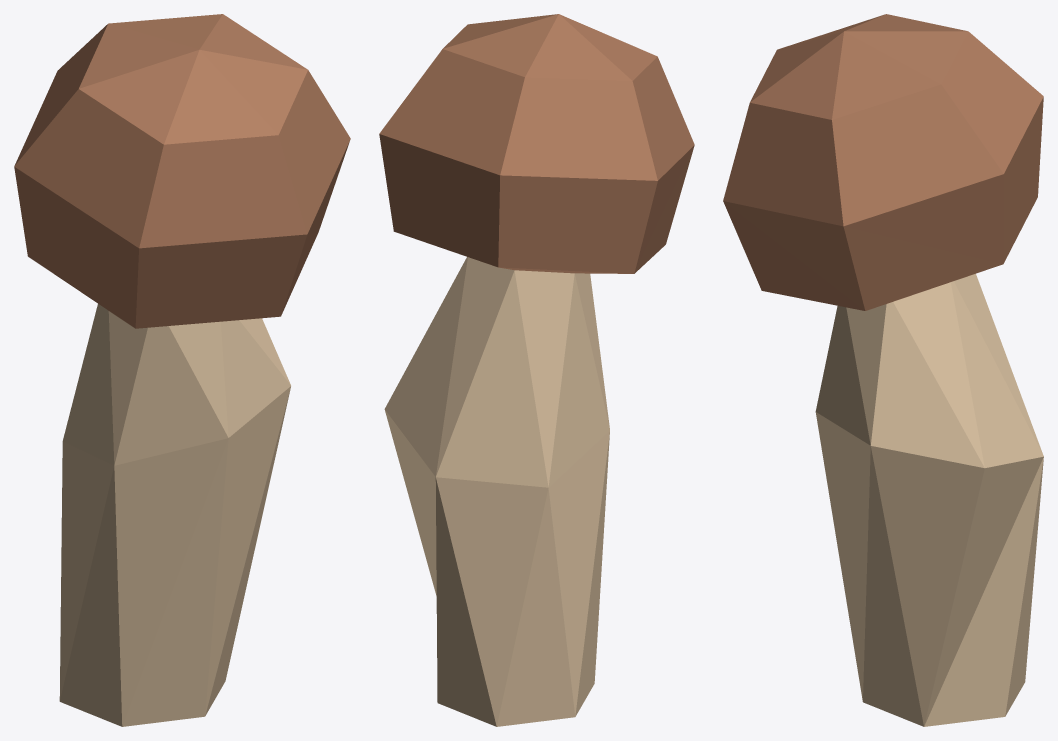
Rendered from Mushroom 7_1.fbx.
The picture shows the model from 3 angles, left to right: view 1: azimuth 30°, elevation 25°; view 2: azimuth 150°, elevation 25°; view 3: azimuth 270°, elevation 25°; orthographic projection. The views are drawn at different scales.
Parts seen in each view (by area): view 1: Mushroom 7_1; view 2: Mushroom 7_1; view 3: Mushroom 7_1.
Part boxes in pixels (x1,y1,x2,y2): Mushroom 7_1: (14, 14, 350, 726); Mushroom 7_1: (379, 14, 694, 726); Mushroom 7_1: (723, 14, 1043, 726).
Size of the model in its own units: 0.0787 by 0.1722 by 0.0755.
